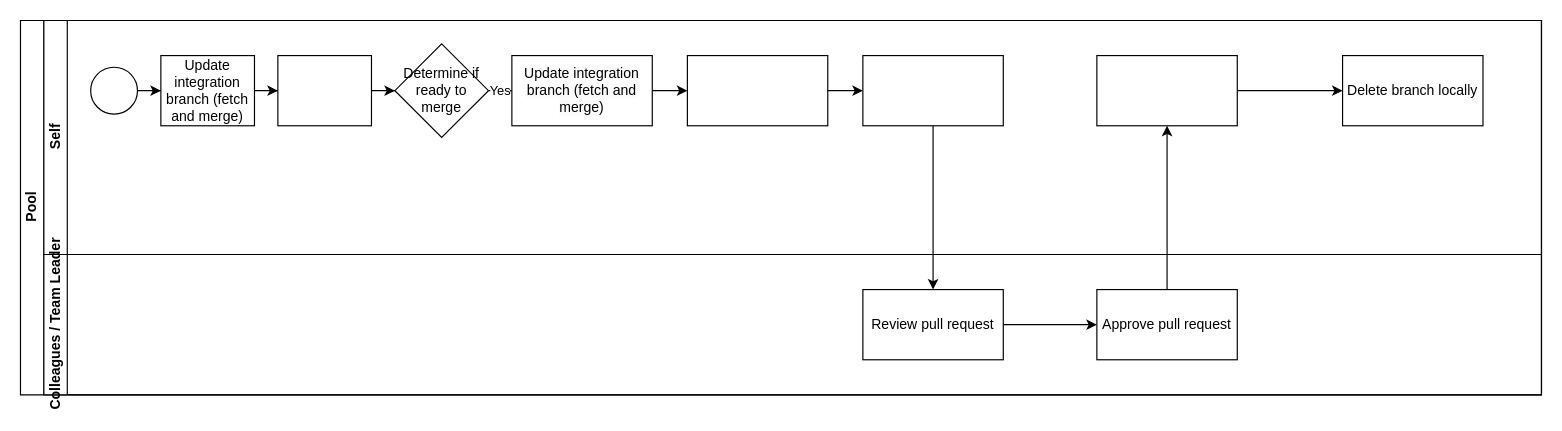
Image size: 1562x431. Some labels were removed from this diagram. Each missing label, with the centre of its shape:
Create feature branch based on integration branch: the point at 324,90
Delete branch using repository manager: the point at 1166,90
Get to work: the point at 113,90
Merge using pull request (request to merge): the point at 932,90
Push feature branch to remote: the point at 757,90
